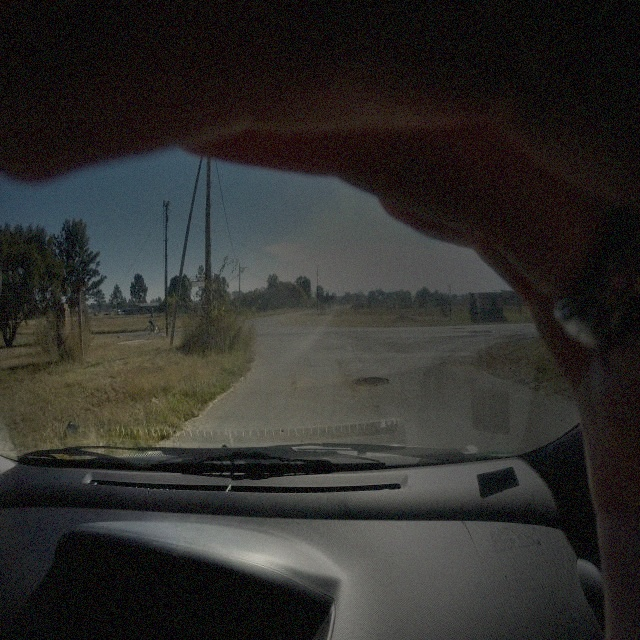pothole: (351, 374, 390, 387)
